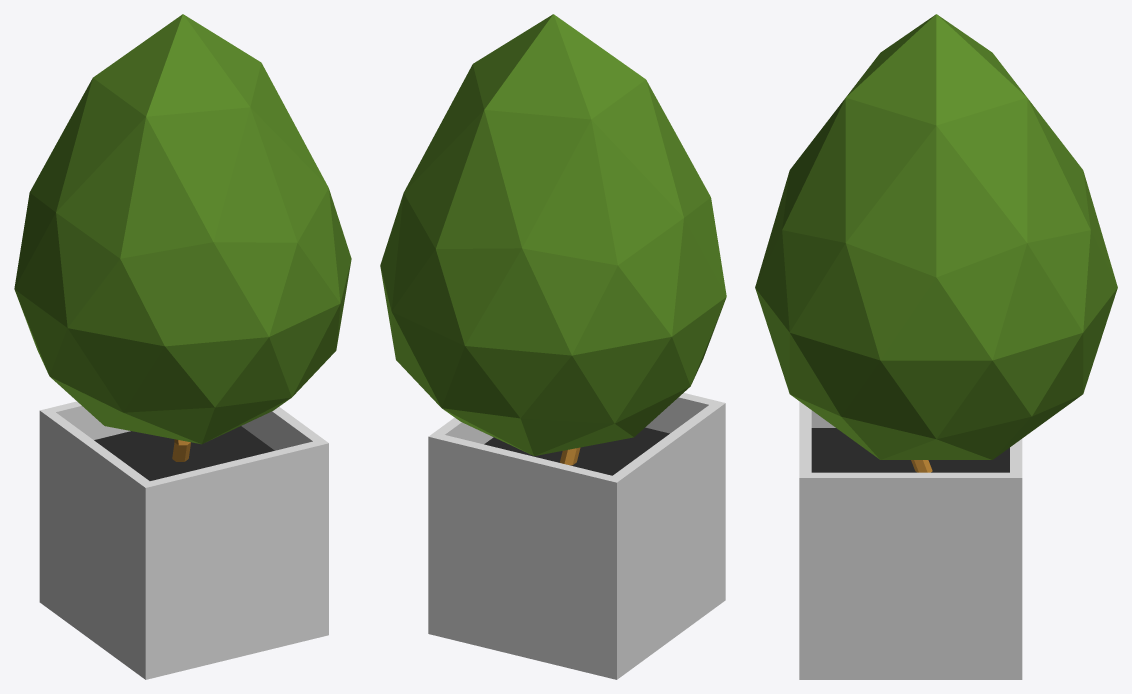
The model's file is Planter_1.fbx.
3 views of the same model, side by side, from view 1: azimuth 30°, elevation 25°; view 2: azimuth 150°, elevation 25°; view 3: azimuth 270°, elevation 25° (orthographic). The views are drawn at different scales.
Parts seen in each view (by area): view 1: Planter_1; view 2: Planter_1; view 3: Planter_1.
Part boxes in pixels (x1,y1,x2,y2): Planter_1: (14, 14, 351, 679); Planter_1: (380, 14, 726, 679); Planter_1: (755, 14, 1117, 679).
Bounding box in the file's own units: 1.51 × 3.01 × 1.59.
